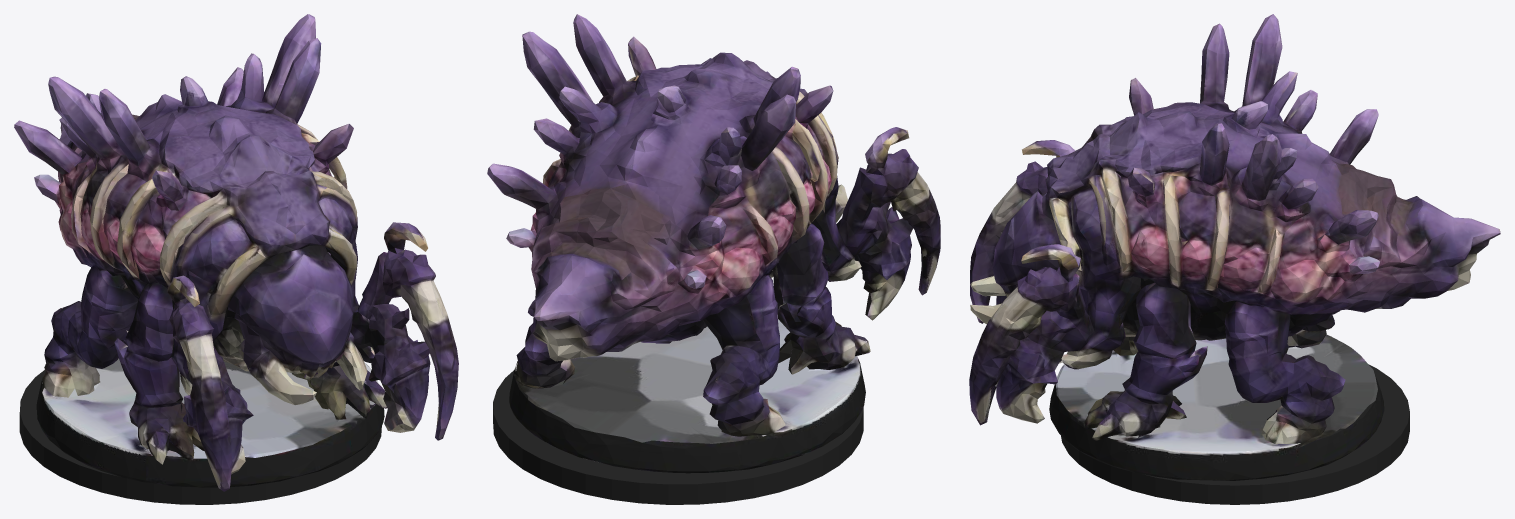
Rendered from corpser.glb.
The picture shows the model from 3 angles, left to right: view 1: azimuth 30°, elevation 25°; view 2: azimuth 150°, elevation 25°; view 3: azimuth 270°, elevation 25°; orthographic projection. The views are drawn at different scales.
Visible parts, largest first — view 1: figure, base; view 2: figure, base; view 3: figure, base.
Boxes of the visible parts, x1=… form: figure: x1=14, y1=14, x2=458, y2=491; base: x1=19, y1=370, x2=381, y2=504; figure: x1=487, y1=14, x2=940, y2=473; base: x1=493, y1=370, x2=863, y2=504; figure: x1=969, y1=14, x2=1500, y2=480; base: x1=1061, y1=364, x2=1409, y2=504.
Size of the model in its own units: 1.97 by 2.22 by 2.99.
Materials: 2 (1 with a texture image).
